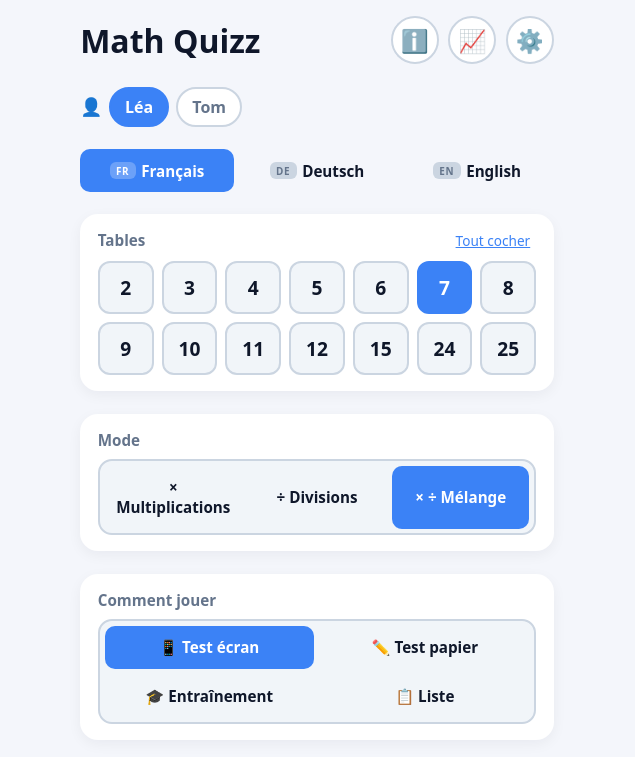
switching profile › "Mes résultats" names whose results these are, and reads their history
The image size is (635, 757).
Click the radio button labelled "Tom": x=209, y=107 [176,87,242,127]
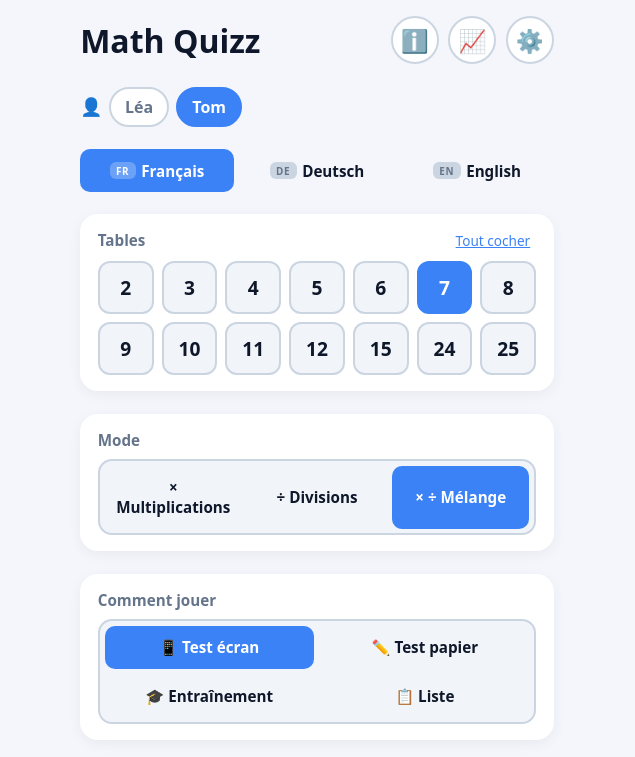
Click the button named "mes résultats": x=472, y=40 [448,16,496,64]
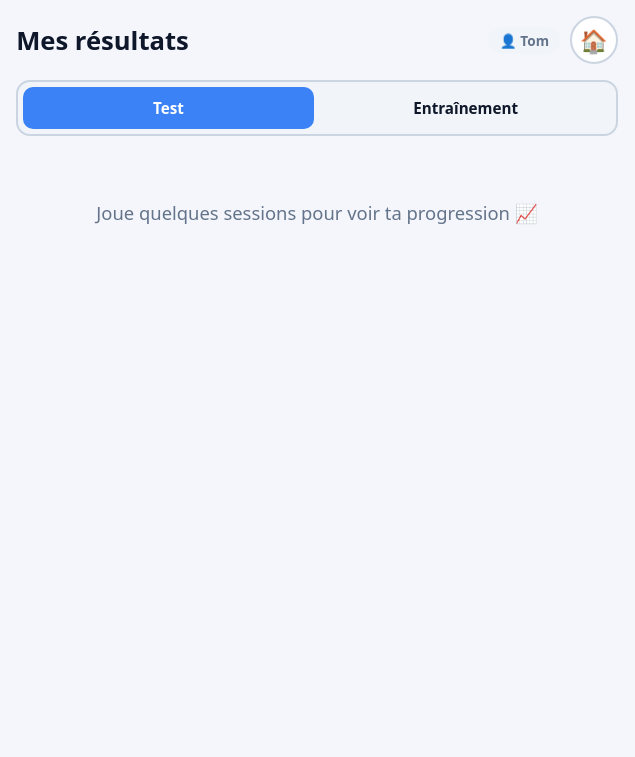
Result: the element named "profil actif" shows "Tom" at [520,31,549,50]
